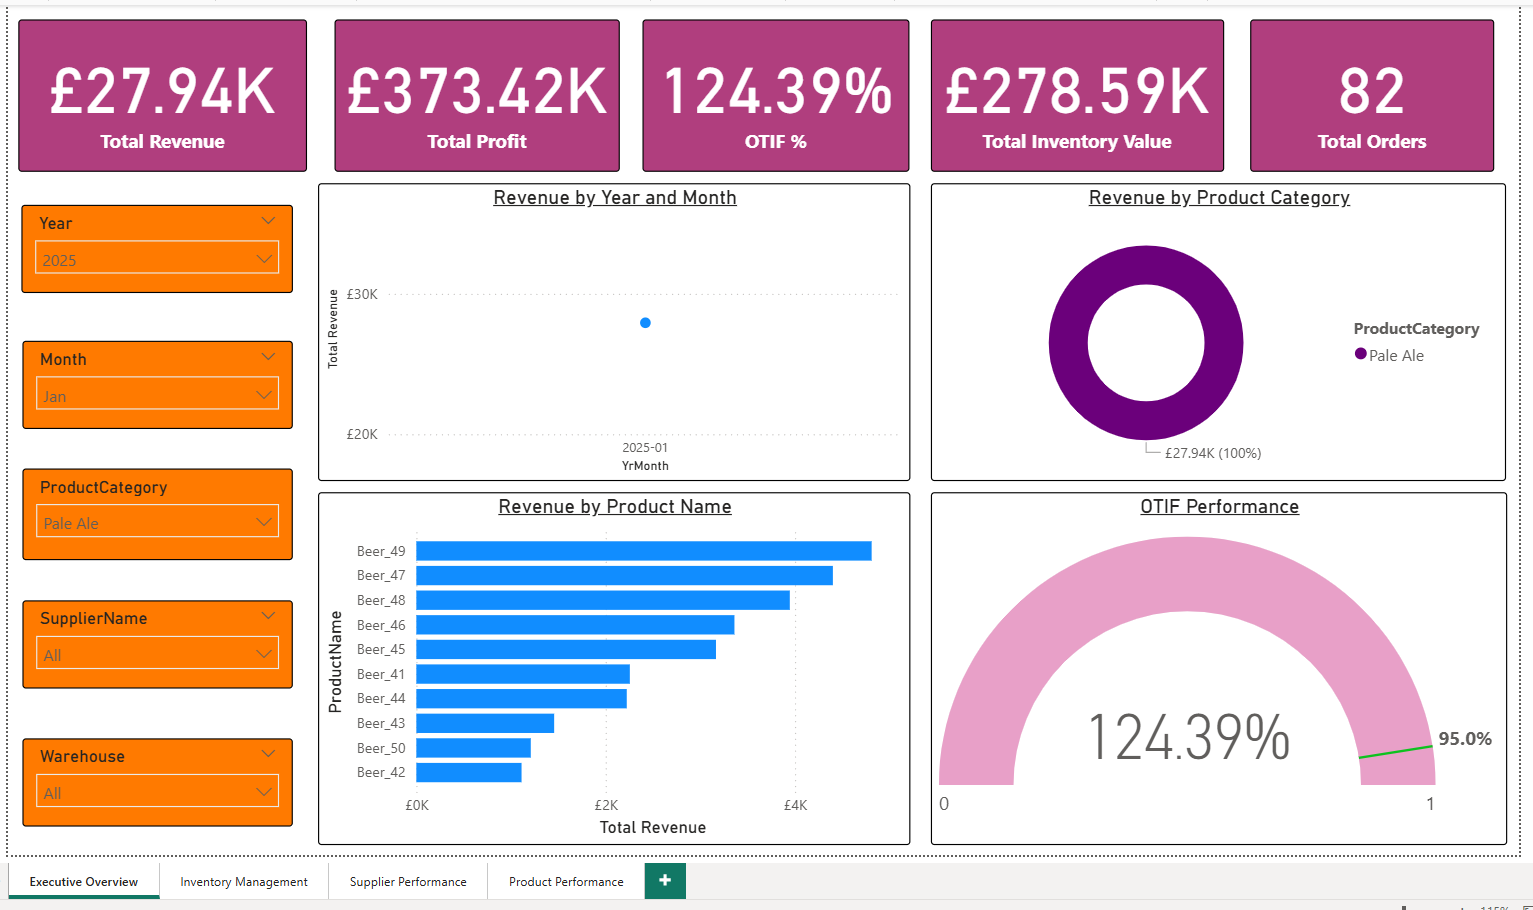

The dashboard page shown, as its layout file describes it:
{"tool":"powerbi","page":{"name":"Executive Overview","canvas":[1280,720],"ordinal":0},"visuals":[{"type":"card","fields":{"Values":["Measure.Total Revenue"]},"box":[9,12.5,244.5,129],"z":0},{"type":"card","fields":{"Values":["Measure.Total Profit"]},"box":[276.7,12.5,241.8,129],"z":1000},{"type":"card","fields":{"Values":["Measure.OTIF %"]},"box":[537.4,12.5,226.6,129],"z":2000},{"type":"card","fields":{"Values":["Measure.Total Inventory Value"]},"box":[781.9,12.5,248.1,129],"z":3000},{"type":"card","fields":{"Values":["Measure.Total Orders"]},"box":[1052.3,12.5,206.9,129],"z":4000},{"type":"lineChart","title":"Revenue by Year and Month","fields":{"Category":["DimDate.YrMonth"],"Y":["Measure.Total Revenue"]},"box":[262.4,151.4,501.5,252.6],"z":5000},{"type":"donutChart","title":"Revenue by Product Category","fields":{"Y":["Measure.Total Revenue"],"Category":["Dimproduct.ProductCategory"]},"box":[781.9,151.4,487.2,252.6],"z":6000},{"type":"clusteredBarChart","title":"Revenue by Product Name","fields":{"Y":["Measure.Total Revenue"],"Category":["Dimproduct.ProductName"]},"box":[262.4,412.9,501.5,299.1],"z":7000},{"type":"gauge","title":"OTIF Performance","fields":{"Y":["Measure.OTIF %"],"MaxValue":["Measure.OTIF Max"],"MinValue":["Measure.OTIF Min"],"TargetValue":["Measure.OTIF Target"]},"box":[781.9,412.9,488.1,299.1],"z":8000},{"type":"slicer","fields":{"Values":["DimDate.Year"]},"box":[11.6,169.3,230.2,75.2],"z":9000},{"type":"slicer","fields":{"Values":["DimDate.Month"]},"box":[12.5,284.8,229.3,75.2],"z":10000},{"type":"slicer","fields":{"Values":["Dimproduct.ProductCategory"]},"box":[12.5,393.2,229.3,77.9],"z":11000},{"type":"slicer","fields":{"Values":["DimSupplier.SupplierName"]},"box":[12.5,504.2,229.3,75.2],"z":12000},{"type":"slicer","fields":{"Values":["FactInventory.Warehouse"]},"box":[12.5,621.6,229.3,75.2],"z":13000}]}

Visuals, with their boxes in screenshot pixels (x1, y1, x2, y2):
card - Measure.Total Revenue: bbox=[15, 15, 303, 167]
card - Measure.Total Profit: bbox=[331, 15, 616, 167]
card - Measure.OTIF %: bbox=[639, 15, 906, 167]
card - Measure.Total Inventory Value: bbox=[927, 15, 1221, 167]
card - Measure.Total Orders: bbox=[1247, 15, 1491, 167]
"Revenue by Year and Month" lineChart: bbox=[314, 179, 906, 477]
"Revenue by Product Category" donutChart: bbox=[927, 179, 1503, 477]
"Revenue by Product Name" clusteredBarChart: bbox=[314, 488, 906, 841]
"OTIF Performance" gauge: bbox=[927, 488, 1504, 841]
slicer - DimDate.Year: bbox=[18, 200, 290, 289]
slicer - DimDate.Month: bbox=[19, 336, 290, 425]
slicer - Dimproduct.ProductCategory: bbox=[19, 464, 290, 556]
slicer - DimSupplier.SupplierName: bbox=[19, 596, 290, 684]
slicer - FactInventory.Warehouse: bbox=[19, 734, 290, 823]
